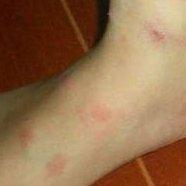Fleas: (139, 20, 172, 47), (91, 104, 114, 125), (46, 158, 65, 174), (17, 129, 30, 145), (60, 73, 71, 84)
